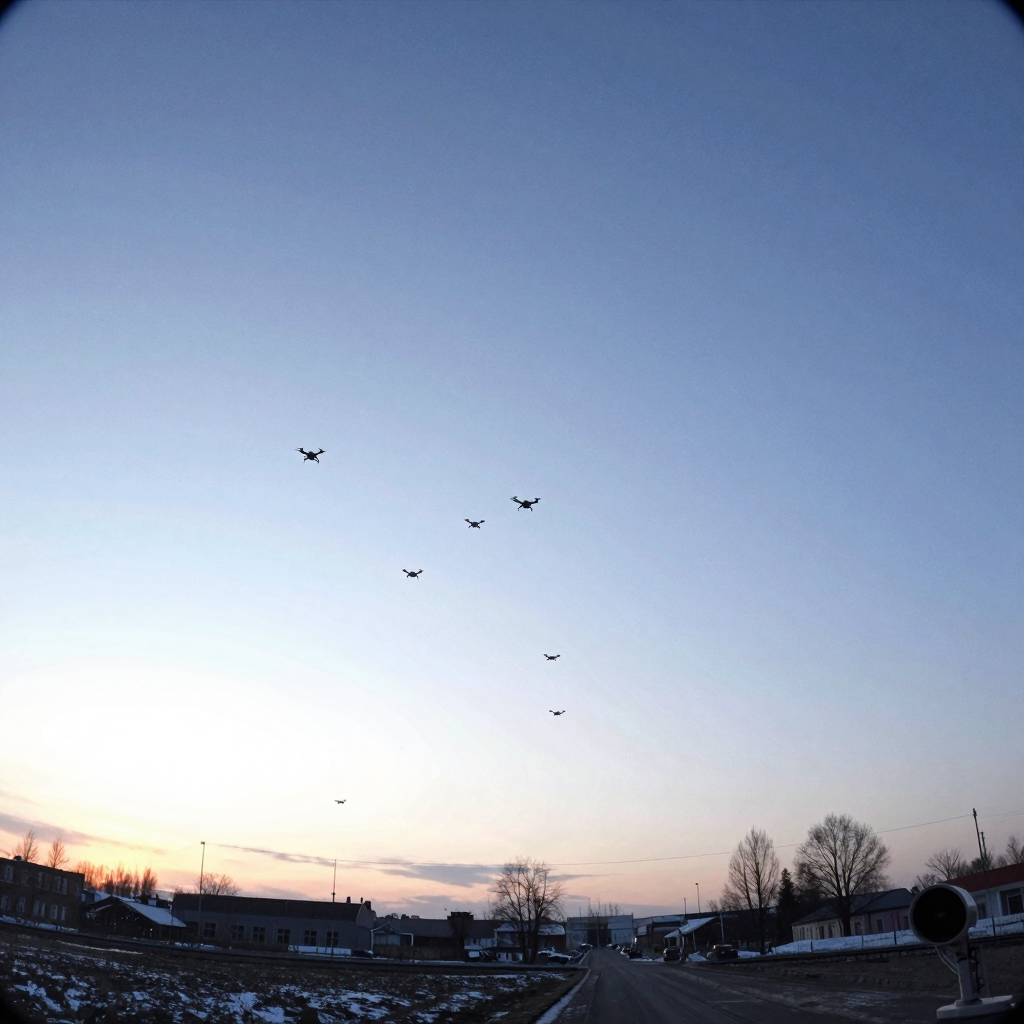drone: (295, 447, 326, 464), (510, 496, 541, 511), (464, 519, 485, 529), (409, 569, 424, 580), (543, 654, 561, 662), (549, 710, 566, 716), (333, 799, 347, 805)
